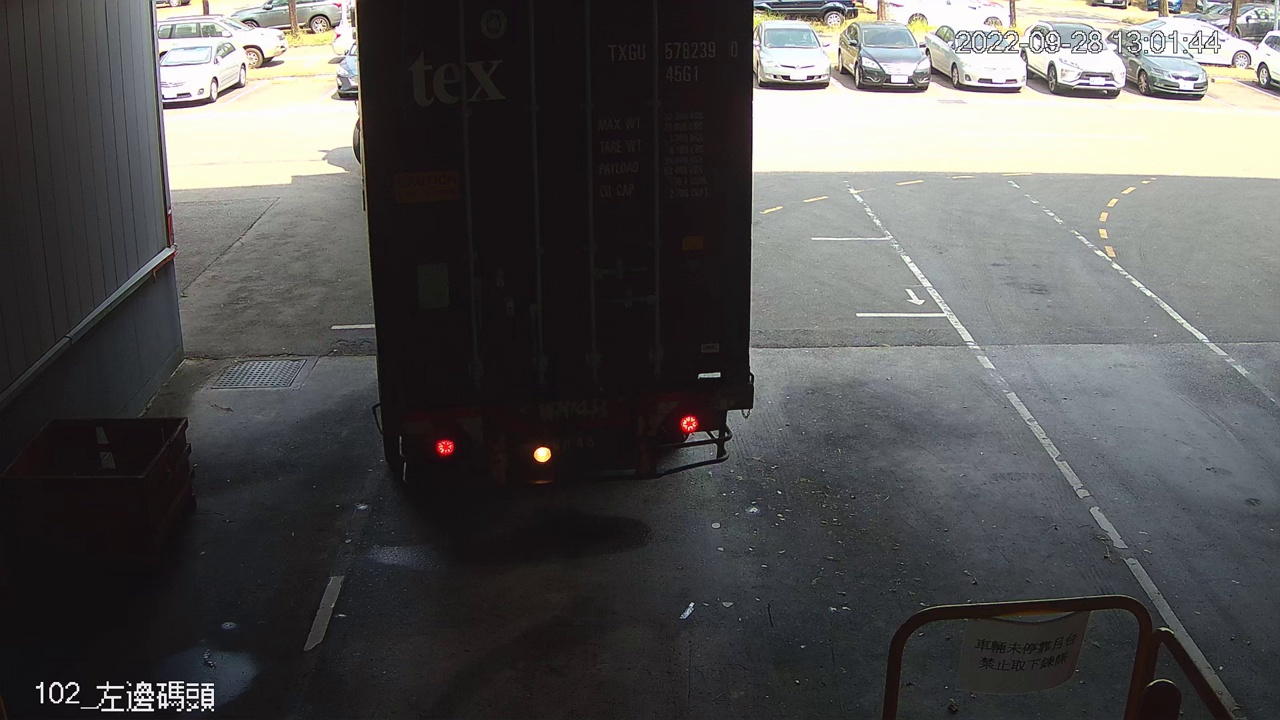container: (600, 33, 746, 90)
